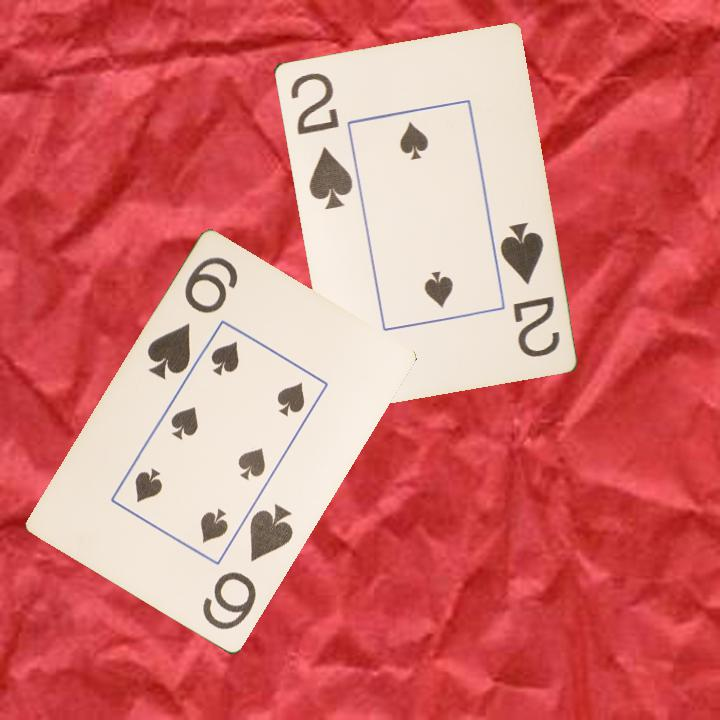2s: (286, 68, 355, 212), (496, 218, 562, 360)
6s: (198, 500, 297, 634), (143, 253, 241, 384)
